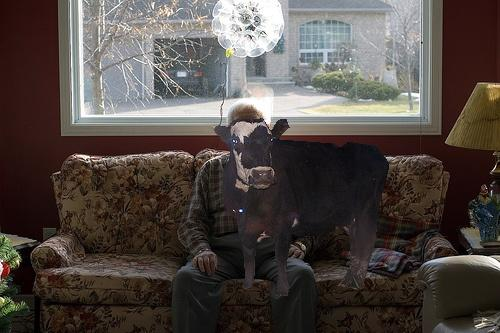tampered: (215, 119, 389, 296)
